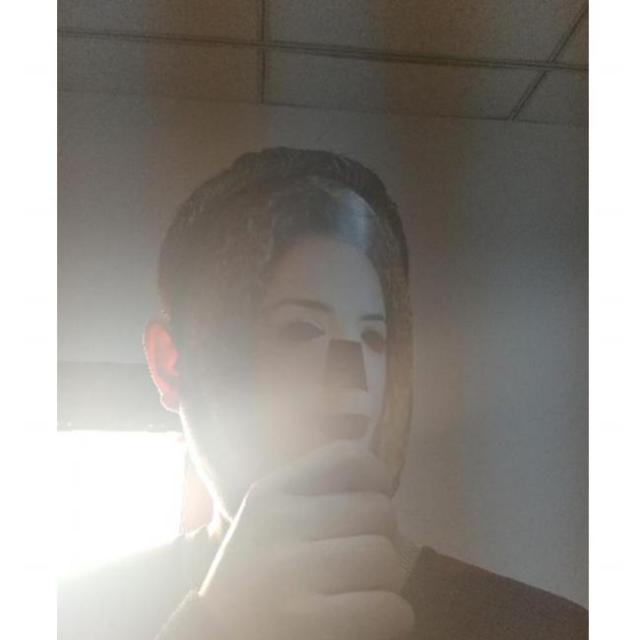mask: (192, 177, 416, 502)
